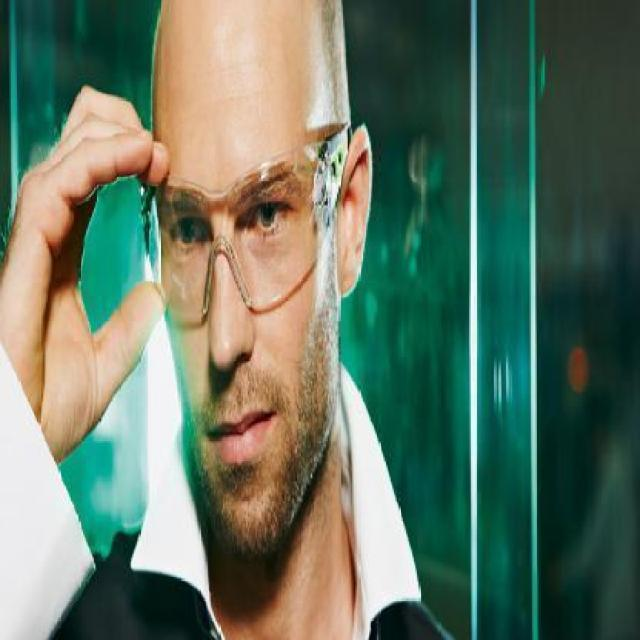face_nomask: (156, 194, 318, 486)
glasses: (132, 116, 352, 330)
hand_noglove: (0, 72, 169, 451)
